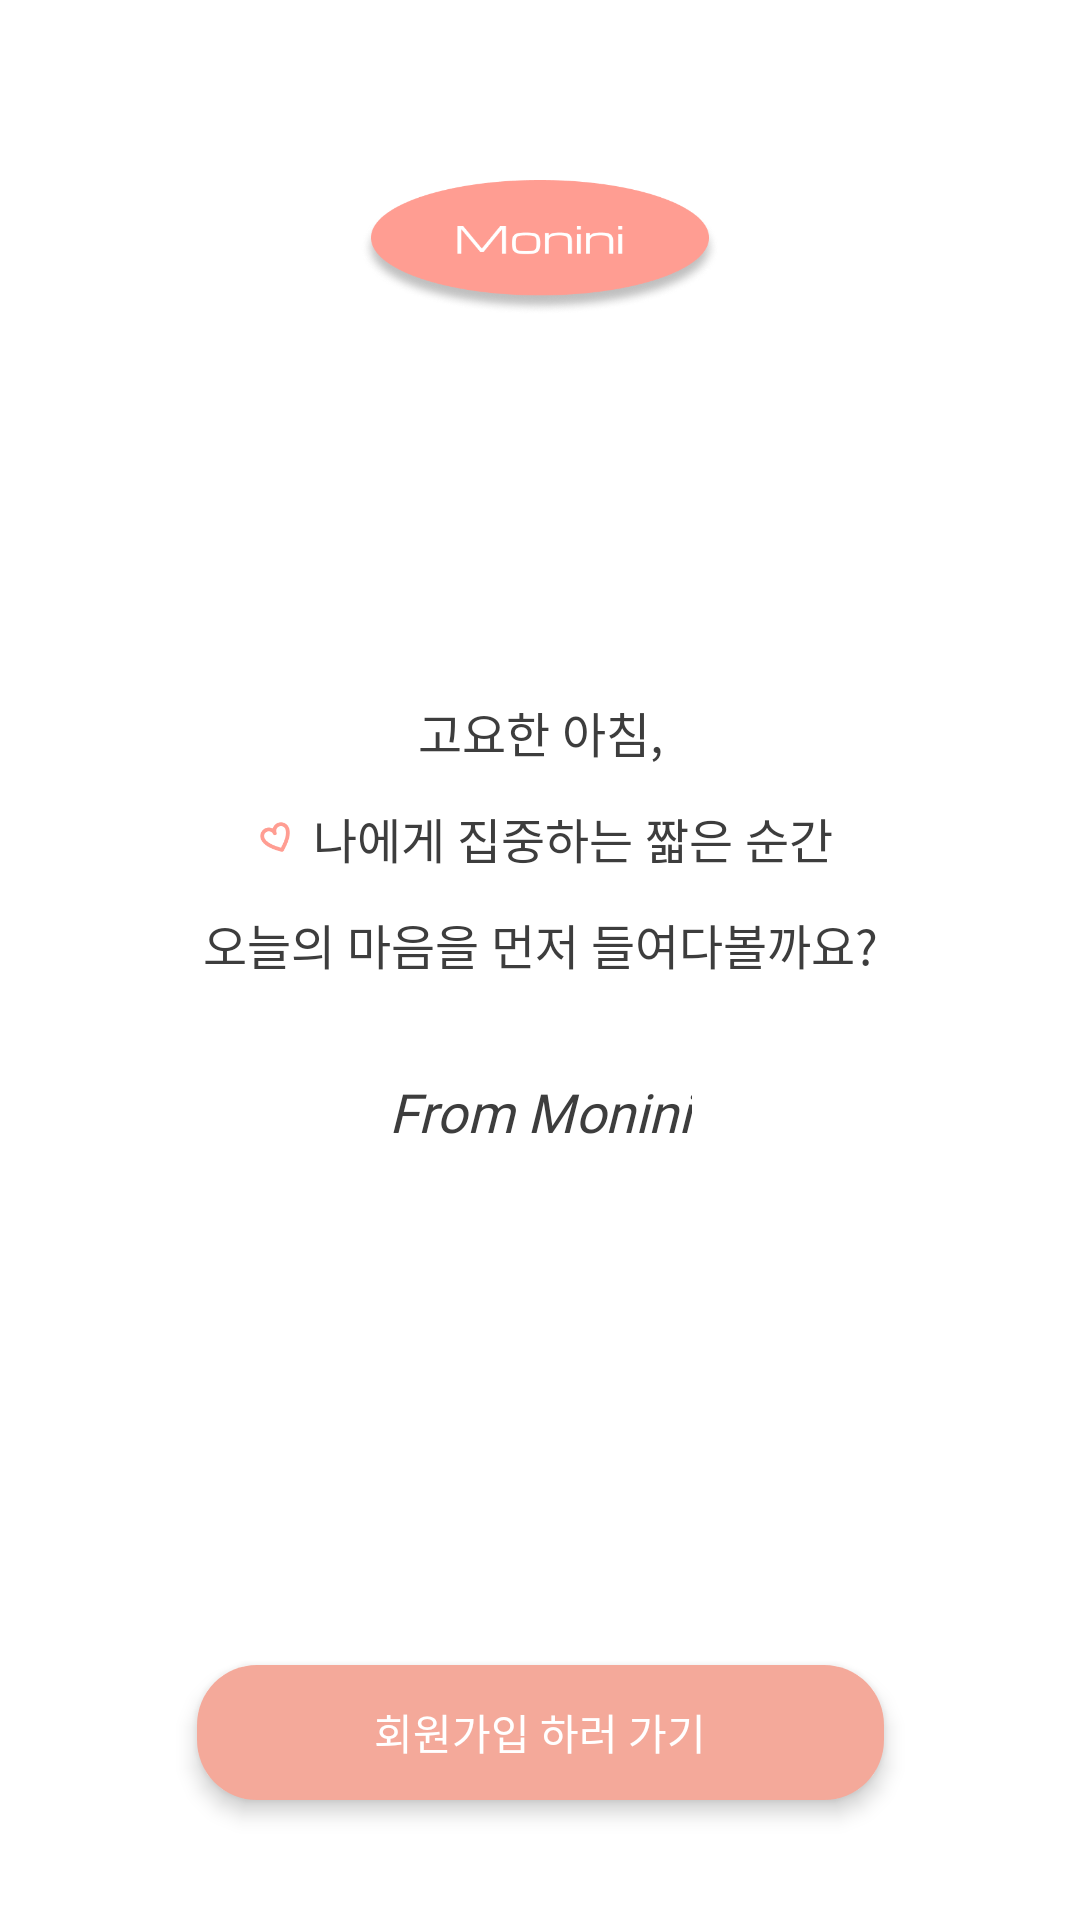

Icons on this 1080x1920 Android screen, each with the point to tap as (x,y):
heart: (275,837)
